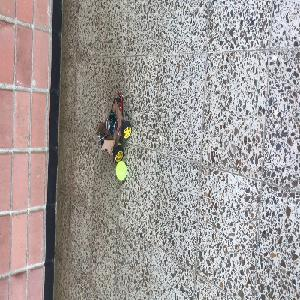Ball: (116, 161, 127, 180)
Robot: (94, 97, 131, 160)
